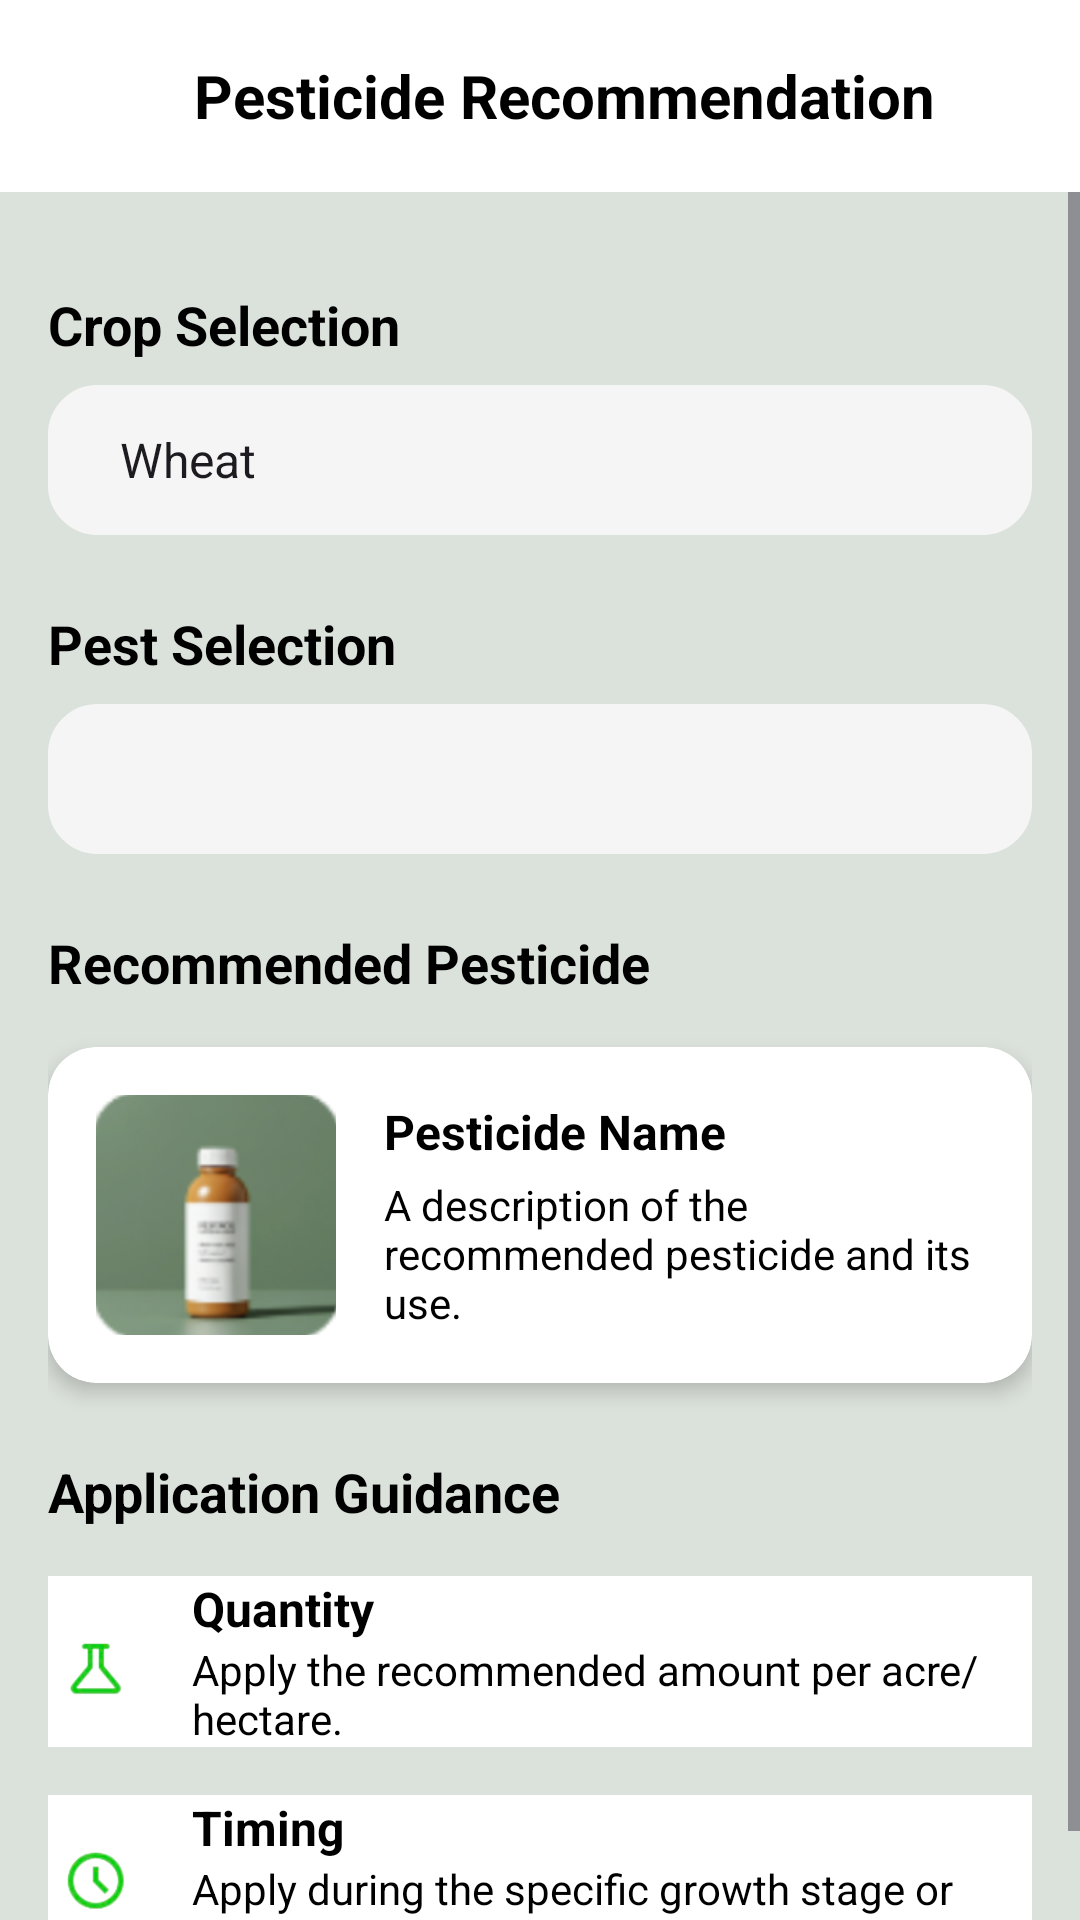

Named icons in this screenshot (1080px×1920px) and their centers, point (x, y):
Pesticide bottle: point (216, 1215)
